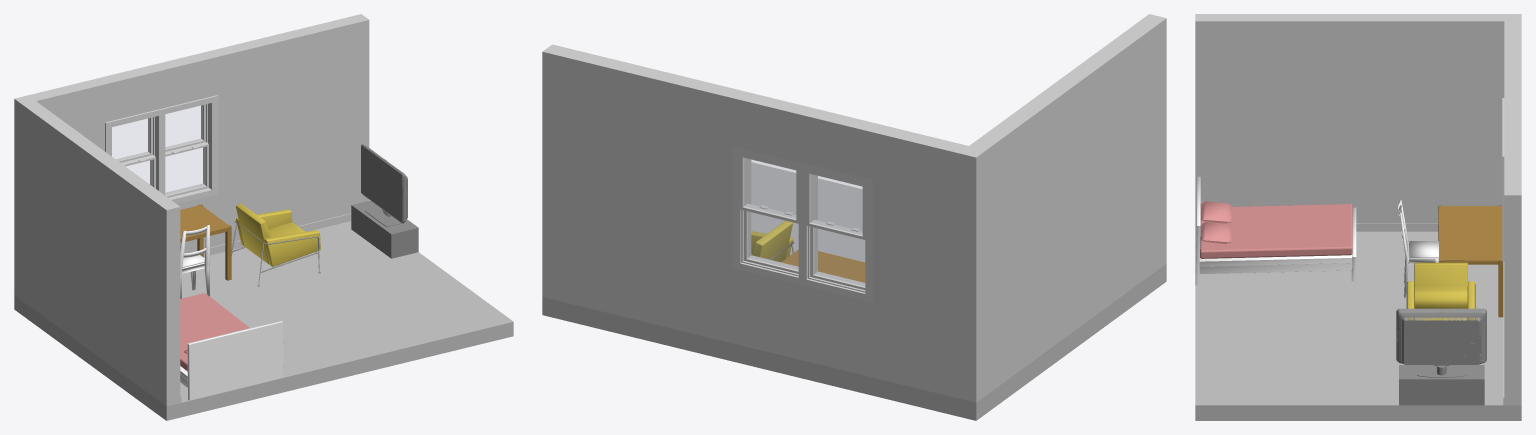
Rendered from L12_W16_furniture3_daylight2.glb.
3 renders of one model, left to right at view 1: azimuth 30°, elevation 25°; view 2: azimuth 150°, elevation 25°; view 3: azimuth 270°, elevation 25°, orthographic. The views are drawn at different scales.
Size of the model in its own units: 200 by 116 by 152.
